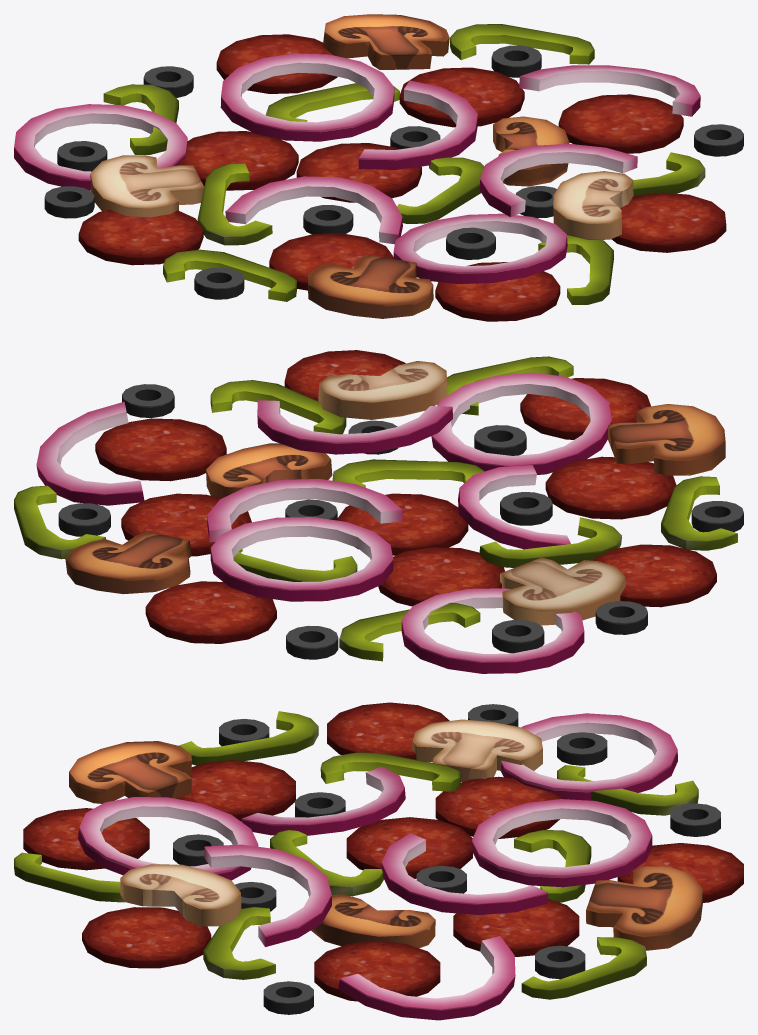
Rendered from Toppings_Deluxe.fbx.
3 renders of one model, top to bottom at view 1: azimuth 30°, elevation 25°; view 2: azimuth 150°, elevation 25°; view 3: azimuth 270°, elevation 25°, orthographic. The views are drawn at different scales.
Parts seen in each view (by area): view 1: Toppings_Deluxe; view 2: Toppings_Deluxe; view 3: Toppings_Deluxe.
Boxes of the visible parts, <box> form: Toppings_Deluxe: <box>14,14,743,321</box>; Toppings_Deluxe: <box>14,350,743,673</box>; Toppings_Deluxe: <box>14,702,743,1020</box>.
Size of the model in its own units: 113 by 6.41 by 113.
